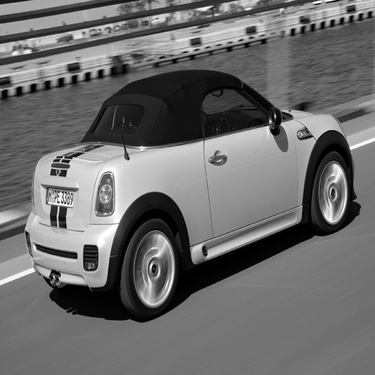car: (20, 64, 359, 306)
